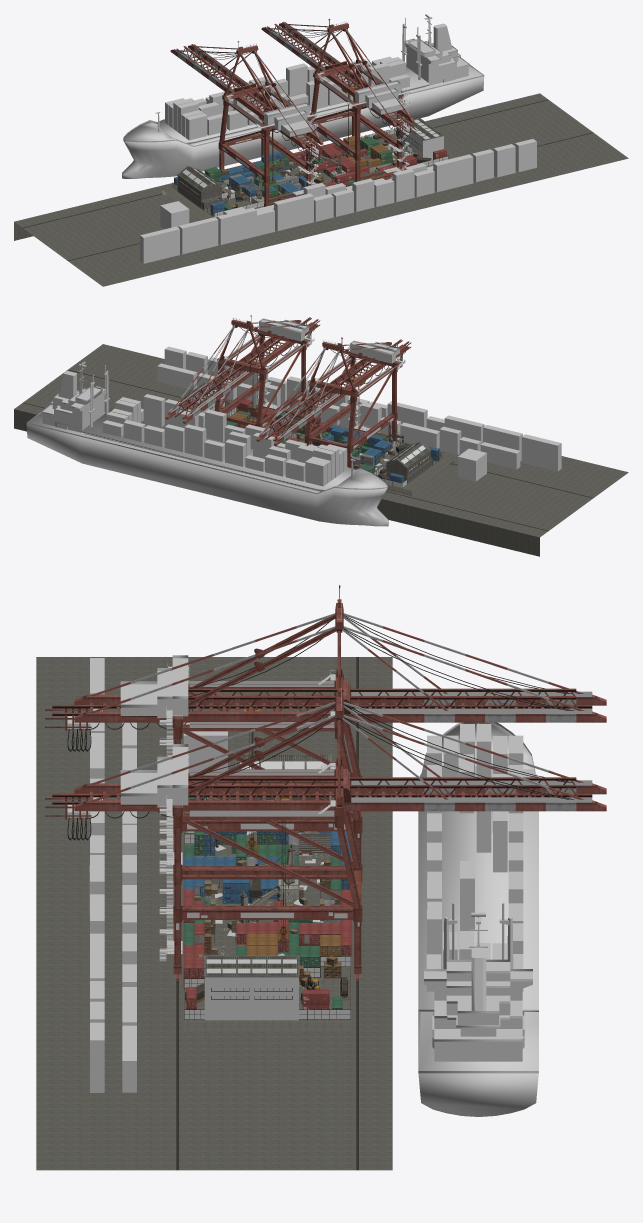
File: CargoPort_World.obj
The picture shows the model from 3 angles, top to bottom: view 1: azimuth 30°, elevation 25°; view 2: azimuth 150°, elevation 25°; view 3: azimuth 270°, elevation 25°; orthographic projection. The views are drawn at different scales.
Visible parts, largest first — view 1: CargoProt_parts03, CargoProt_parts02, CargoProt_parts01, Z_CargoProt_Alpha; view 2: CargoProt_parts03, CargoProt_parts02, Z_CargoProt_Alpha, CargoProt_parts01; view 3: CargoProt_parts03, CargoProt_parts01, Z_CargoProt_Alpha, CargoProt_parts02.
Boxes of the visible parts, x1,y1,x2,y2 form: CargoProt_parts03: (14,14,628,286); CargoProt_parts02: (162,151,332,219); CargoProt_parts01: (179,118,457,195); Z_CargoProt_Alpha: (123,22,484,217); CargoProt_parts03: (14,315,628,556); CargoProt_parts02: (285,424,453,496); Z_CargoProt_Alpha: (26,318,443,494); CargoProt_parts01: (180,382,428,471); CargoProt_parts03: (36,585,606,1170); CargoProt_parts01: (183,761,351,1030); Z_CargoProt_Alpha: (120,655,592,1073); CargoProt_parts02: (179,755,356,998).
Size of the model in its own units: 278 by 79.79 by 130.
